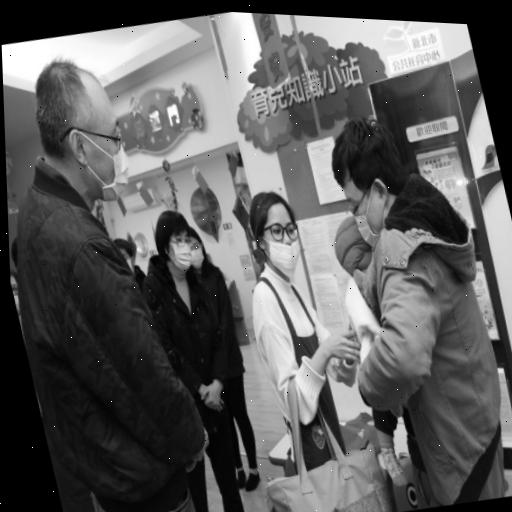mask: (20, 44, 152, 222), (314, 105, 448, 276), (236, 178, 316, 284), (147, 208, 201, 282), (183, 221, 214, 275)
